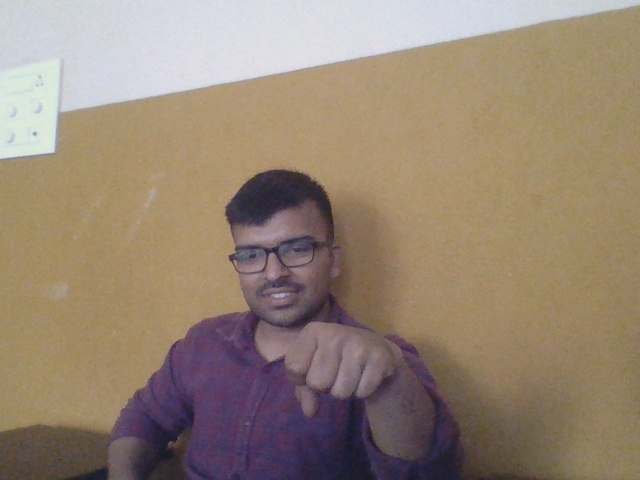Yes: (278, 307, 407, 422)
